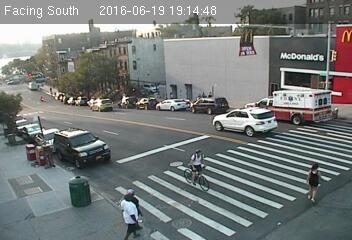neg: (177, 144, 211, 188), (192, 56, 211, 81), (298, 50, 316, 74), (107, 65, 123, 87), (247, 109, 262, 129)
pos: (108, 182, 148, 236), (295, 156, 331, 204)
